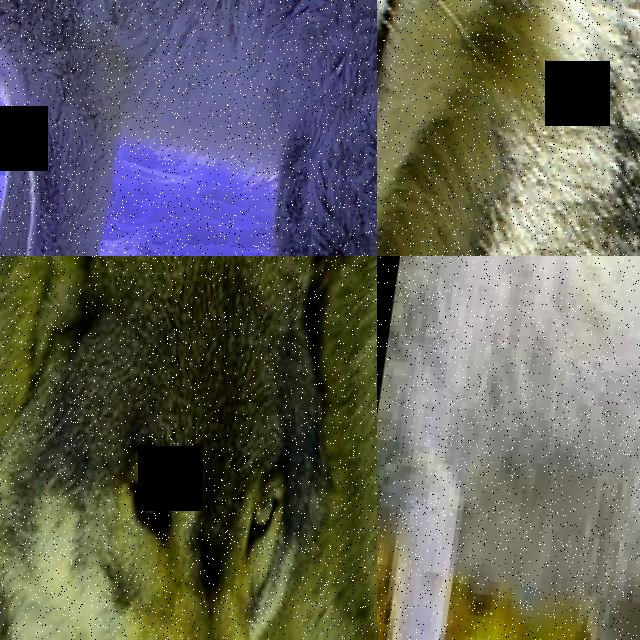wolf: (0, 256, 377, 640), (377, 256, 640, 640), (0, 0, 377, 256), (377, 0, 640, 256), (224, 256, 377, 640)
